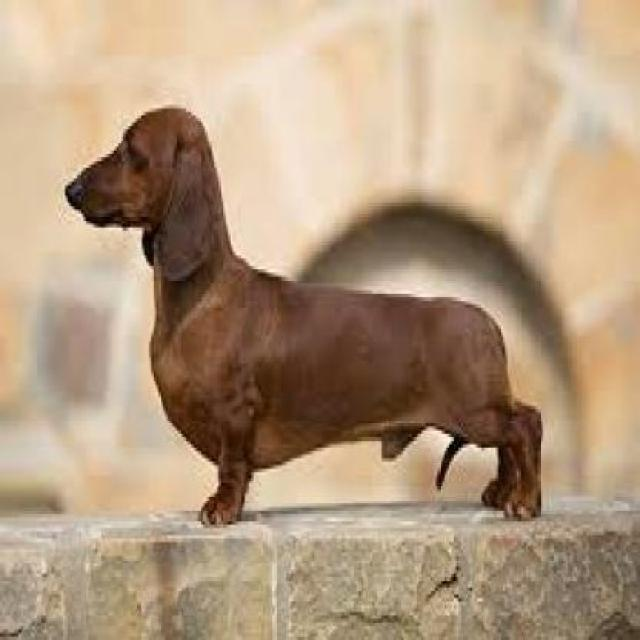animals: (60, 72, 571, 566)
